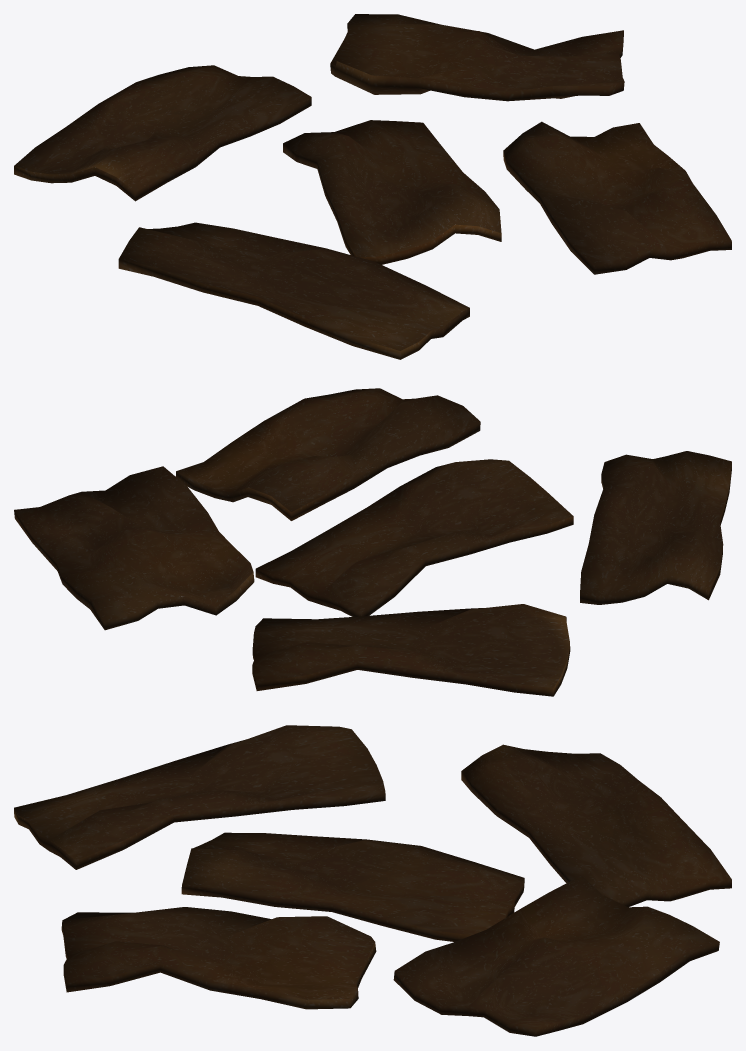
File: yakiniku_02_c.glb
The picture shows the model from 3 angles, top to bottom: view 1: azimuth 30°, elevation 25°; view 2: azimuth 150°, elevation 25°; view 3: azimuth 270°, elevation 25°; orthographic projection. The views are drawn at different scales.
Parts seen in each view (by area): view 1: yakiniku.002; view 2: yakiniku.002; view 3: yakiniku.002.
Boxes of the visible parts, x1,y1,x2,y2 form: yakiniku.002: (14,14,731,359); yakiniku.002: (14,388,731,696); yakiniku.002: (14,725,731,1036).
Bounding box in the file's own units: 0.1823 × 0.0146 × 0.1811.
Materials: 1 (1 with a texture image).
